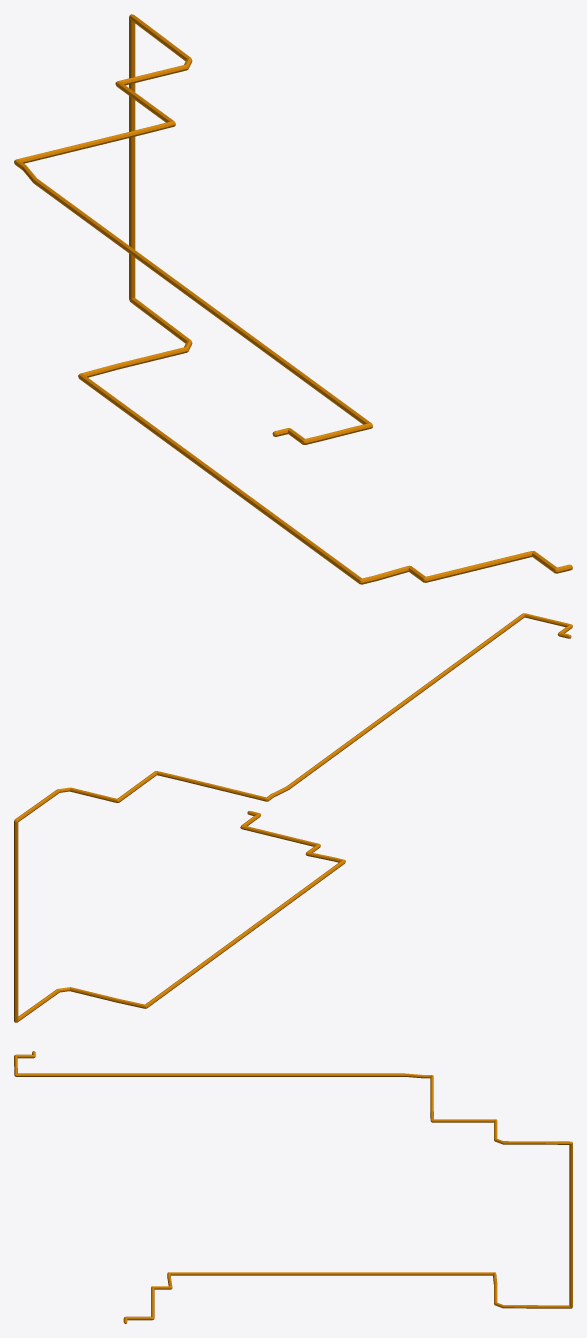
3 renders of one model, top to bottom at view 1: azimuth 30°, elevation 25°; view 2: azimuth 150°, elevation 25°; view 3: azimuth 270°, elevation 25°, orthographic. The views are drawn at different scales.
Bounding box in the file's own units: 1404 × 1020 × 3092.
